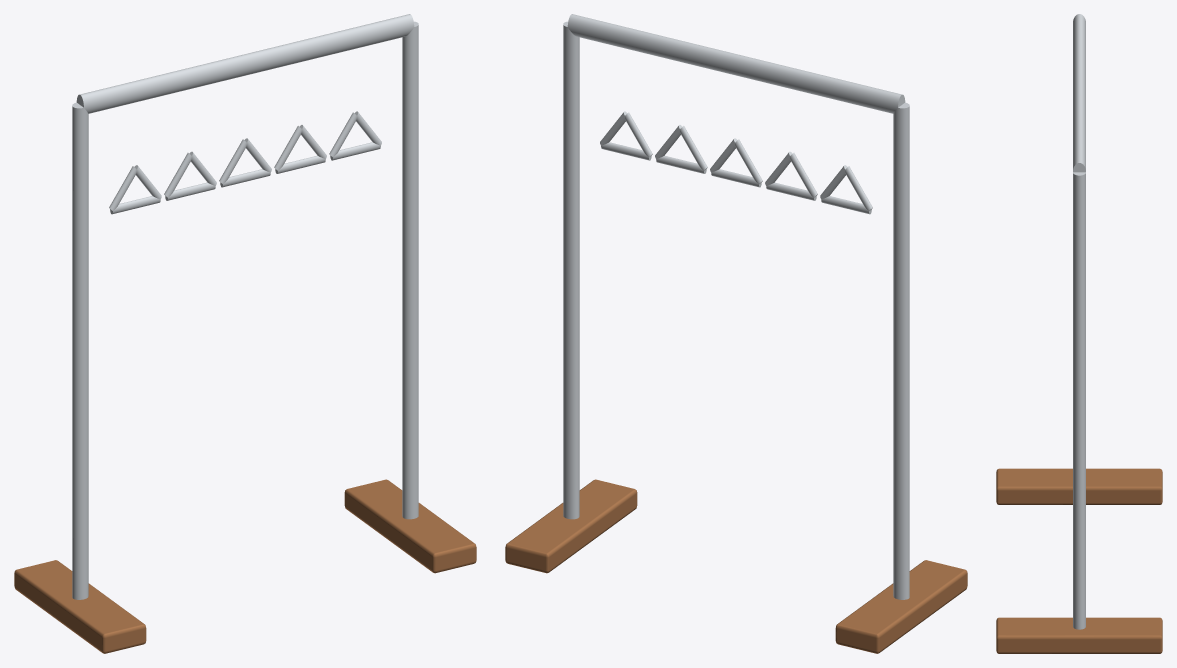
Rendered from wp-portant-a-vetements.glb.
3 renders of one model, left to right at view 1: azimuth 30°, elevation 25°; view 2: azimuth 150°, elevation 25°; view 3: azimuth 270°, elevation 25°, orthographic. The views are drawn at different scales.
Visible parts, largest first — view 1: wp-portant-a-vetements; view 2: wp-portant-a-vetements; view 3: wp-portant-a-vetements.
Boxes of the visible parts, <box> form: wp-portant-a-vetements: <box>14,14,476,653</box>; wp-portant-a-vetements: <box>505,14,967,653</box>; wp-portant-a-vetements: <box>996,14,1162,653</box>.
Size of the model in its own units: 1.2 by 1.6 by 0.5.
